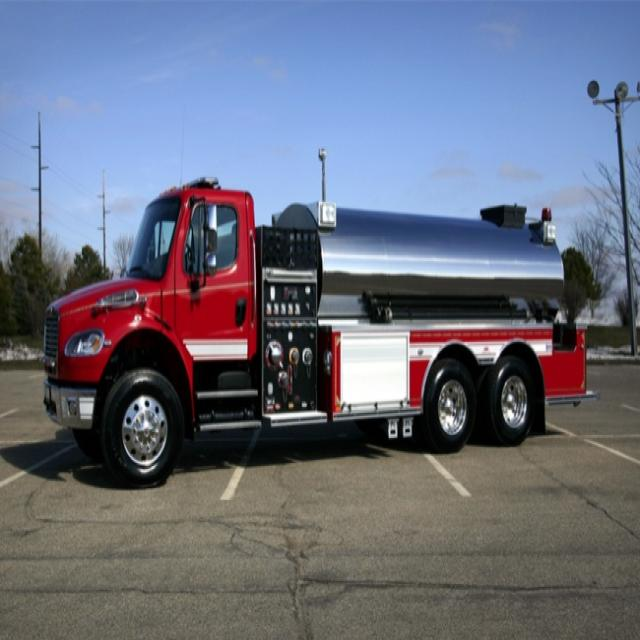pompier: (45, 179, 586, 487)
